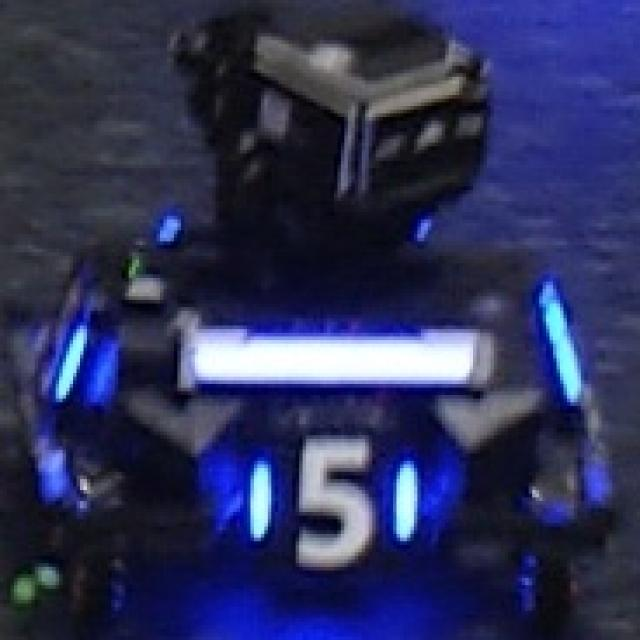B5: (247, 432, 417, 570)
